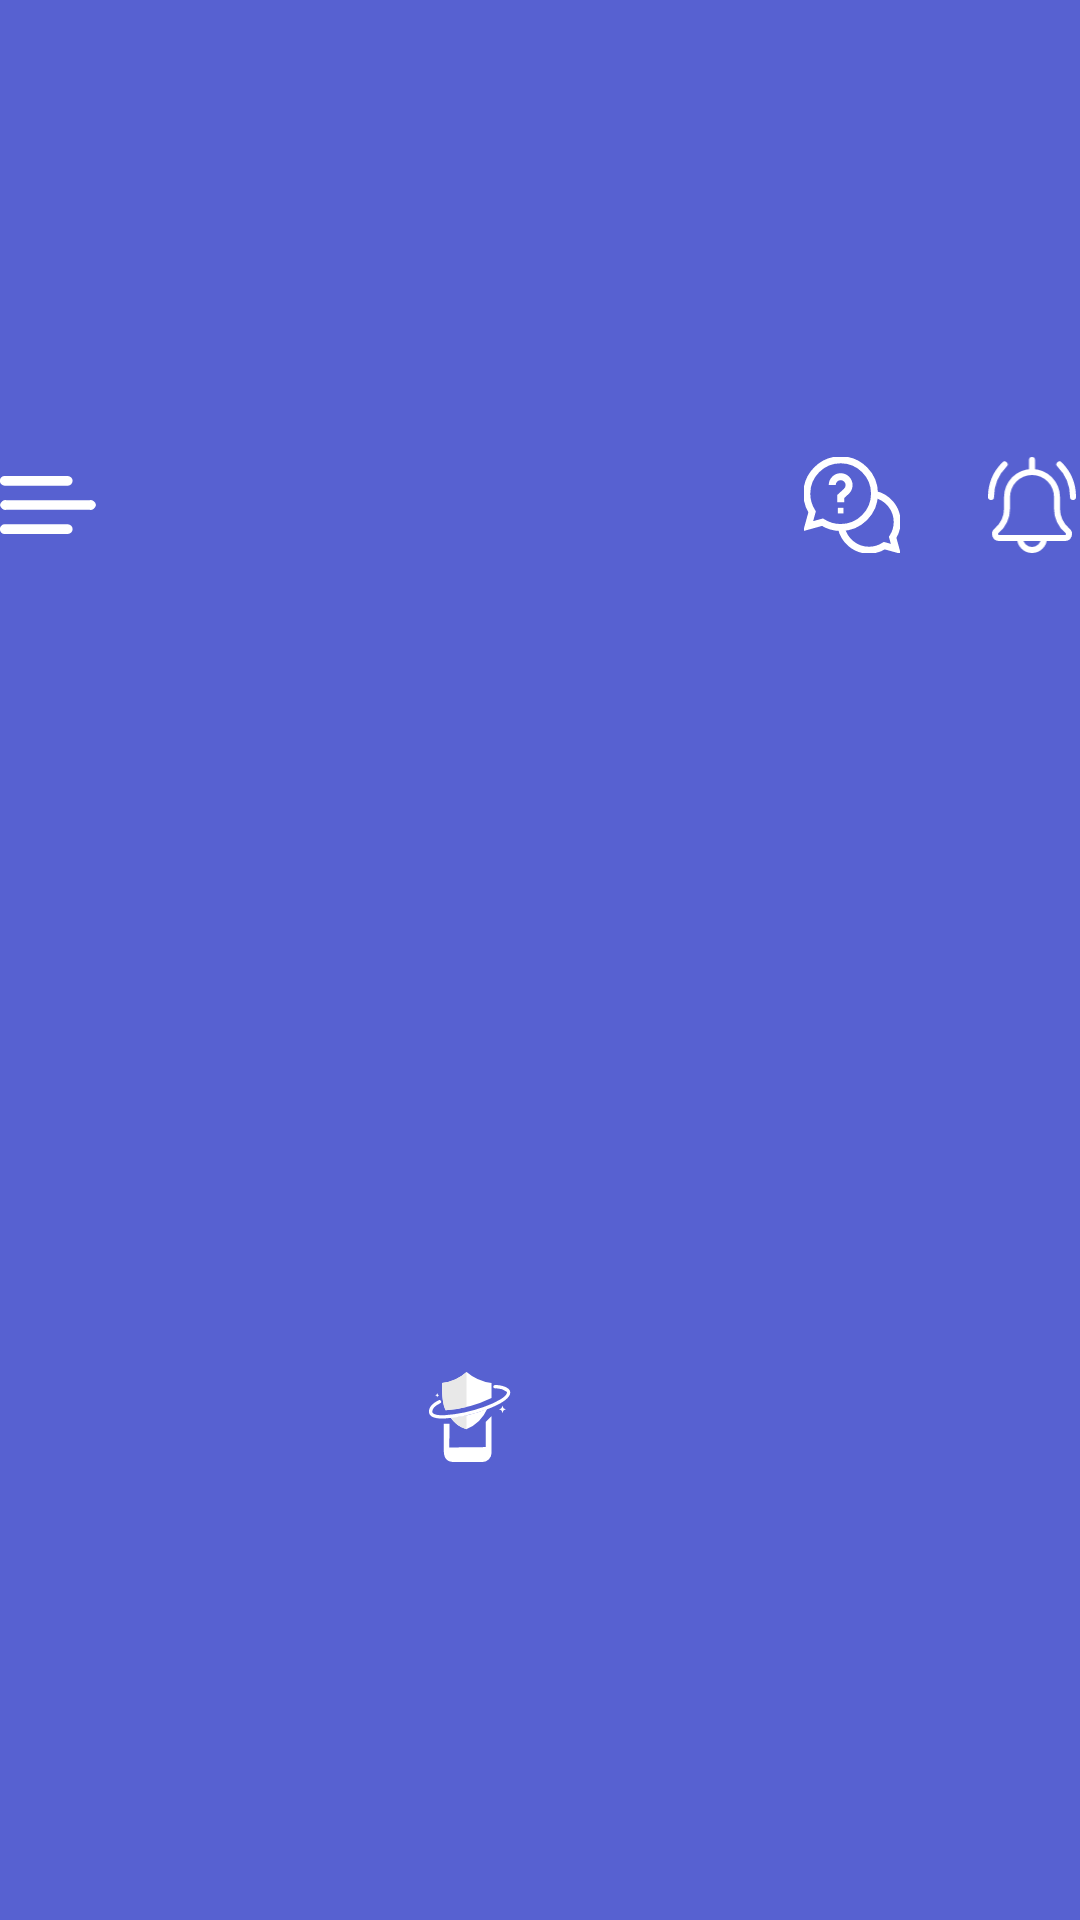

Where icons sit on this 1080w x 1920h app screen, as (x1, y1, x2, y2):
hambourger menu: (0, 476, 96, 534)
help: (804, 457, 900, 553)
notifications: (988, 457, 1076, 553)
